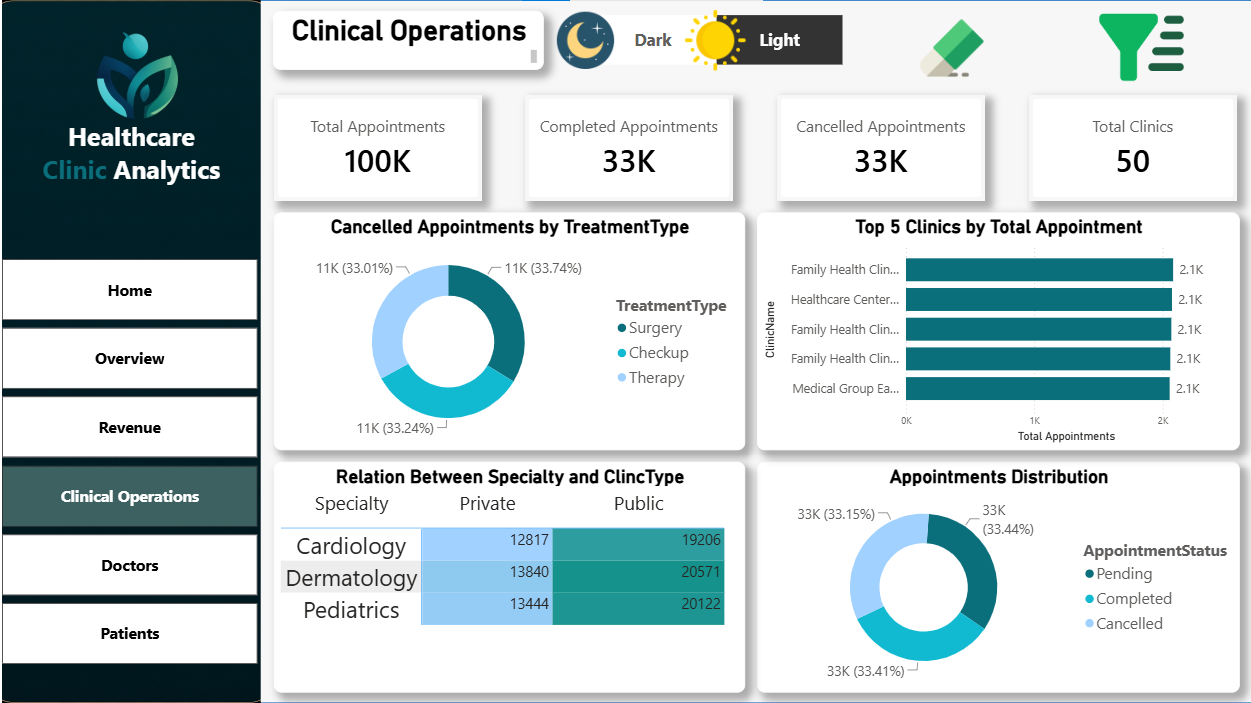

The page's visual inventory and layout, read from the dashboard file:
{"tool":"powerbi","page":{"name":"Clinical Operations","canvas":[1600,900],"ordinal":3},"visuals":[{"type":"shape","box":[0,0,1600.2,900],"z":0},{"type":"image","box":[0,0,331.2,900],"z":1000},{"type":"cardVisual","fields":{"Data":["DimMeasure.Total Appointments"]},"box":[347.4,120.6,266.4,136.8],"z":2000},{"type":"cardVisual","fields":{"Data":["DimMeasure.Completed Appointments"]},"box":[669.6,120.6,266.4,136.8],"z":3000},{"type":"cardVisual","fields":{"Data":["DimMeasure.Cancelled Appointments"]},"box":[991.8,120.6,266.4,136.8],"z":4000},{"type":"cardVisual","fields":{"Data":["DimMeasure.Total Clinics"]},"box":[1314,120.6,266.4,136.8],"z":5000},{"type":"slicer","fields":{"Values":["ColorTheme.Mode"]},"box":[727.2,12.6,372.6,77.4],"z":6000},{"type":"donutChart","title":"Appointments Distribution","fields":{"Category":["DimAppointment.AppointmentStatus"],"Y":["DimMeasure.Total Appointments"]},"box":[966.6,590.4,617.4,295.2],"z":7000},{"type":"donutChart","fields":{"Category":["DimTreatment.TreatmentType"],"Y":["DimMeasure.Cancelled Appointments"]},"box":[347.4,271.8,603,304.2],"z":8000},{"type":"pivotTable","title":"Relation Between Specialty and Medicine Type","fields":{"Columns":["DimMedicine.MedicineName"],"Rows":["DimDoctor.Specialty"],"Values":["DimMeasure.Total Appointments"]},"box":[347.4,590.4,603,295.2],"z":9000},{"type":"textbox","title":"Clinical Operations","box":[346.9,13.3,346.9,75.8],"z":10000},{"type":"image","box":[693,14.4,106.2,73.8],"z":11000},{"type":"image","box":[868.8,13,89.3,78.1],"z":12000},{"type":"clusteredBarChart","title":"Top 5 Clinics by Total Appointment","fields":{"Category":["DimClinic.ClinicName"],"Y":["DimMeasure.Total Appointments"]},"box":[966.6,271.8,617.4,304.2],"z":13000},{"type":"image","box":[1312.7,0,287.3,121.1],"z":21000},{"type":"image","box":[1118.2,20.2,195,80.7],"z":23000},{"type":"pageNavigator","box":[0,331.2,327.6,518.4],"z":24000},{"type":"textbox","box":[0,147.6,331.2,171],"z":25000},{"type":"image","box":[10,10,327.6,189],"z":26000}]}

Visuals, with their boxes in screenshot pixels (x1, y1, x2, y2), scaled from the page's 1600x900 canvas onto the 1251x703 screenshot:
shape: BBox(0, 0, 1250, 702)
image: BBox(0, 0, 259, 702)
cardVisual - DimMeasure.Total Appointments: BBox(272, 94, 480, 201)
cardVisual - DimMeasure.Completed Appointments: BBox(524, 94, 732, 201)
cardVisual - DimMeasure.Cancelled Appointments: BBox(775, 94, 984, 201)
cardVisual - DimMeasure.Total Clinics: BBox(1027, 94, 1236, 201)
slicer - ColorTheme.Mode: BBox(569, 10, 860, 70)
"Appointments Distribution" donutChart: BBox(756, 461, 1238, 692)
donutChart - DimTreatment.TreatmentType x DimMeasure.Cancelled Appointments: BBox(272, 212, 743, 450)
"Relation Between Specialty and Medicine Type" pivotTable: BBox(272, 461, 743, 692)
"Clinical Operations" textbox: BBox(271, 10, 542, 70)
image: BBox(542, 11, 625, 69)
image: BBox(679, 10, 749, 71)
"Top 5 Clinics by Total Appointment" clusteredBarChart: BBox(756, 212, 1238, 450)
image: BBox(1026, 0, 1250, 95)
image: BBox(874, 16, 1027, 79)
pageNavigator: BBox(0, 259, 256, 664)
textbox: BBox(0, 115, 259, 249)
image: BBox(8, 8, 264, 155)
